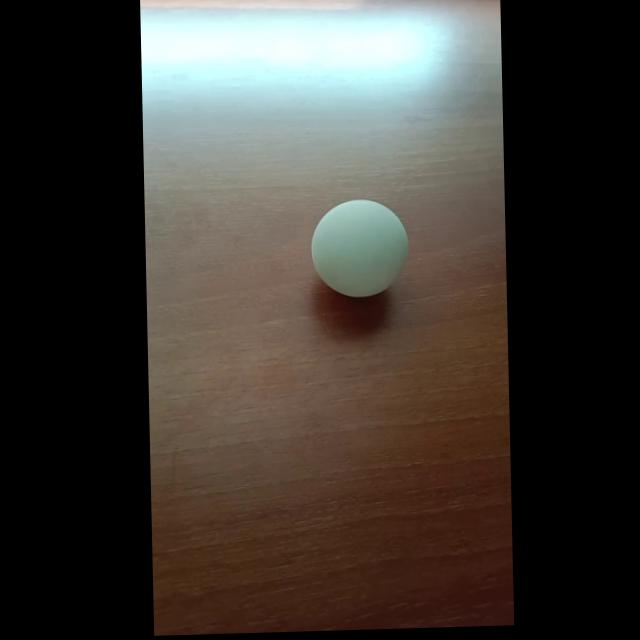white ball: (310, 196, 410, 299)
